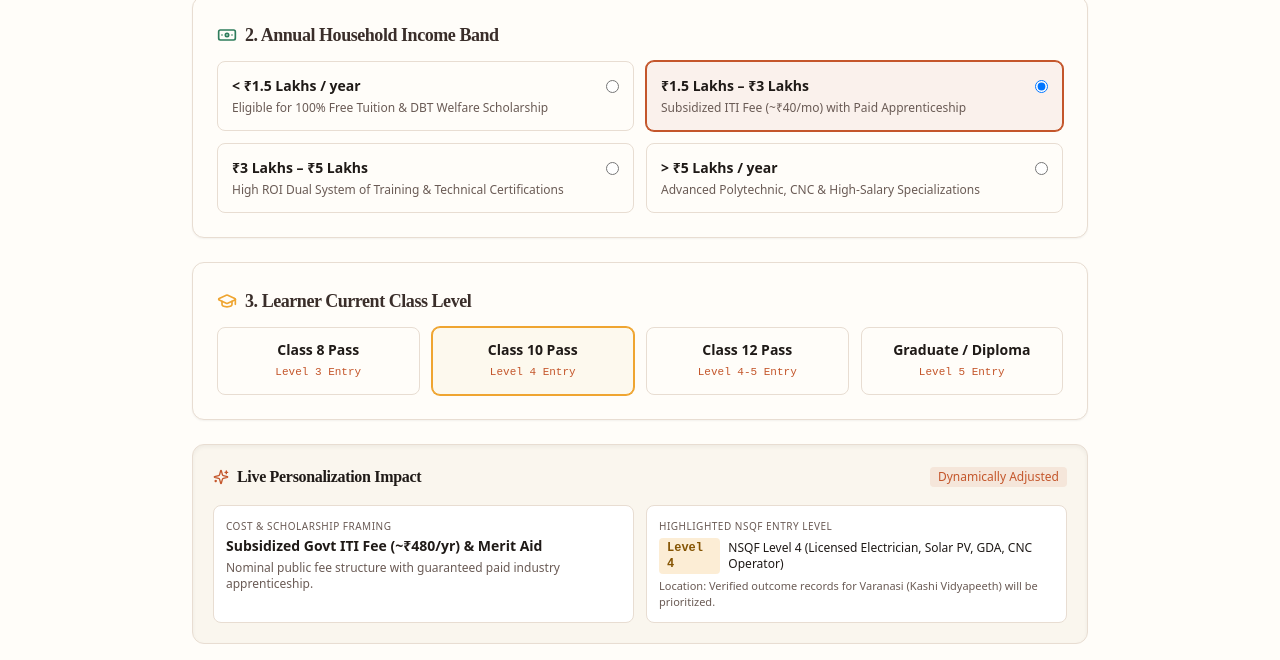
Scenario: HouseholdIntakeForm Component › updates dynamic preview when learner education level is changed to Class 8 Pass
(page scrolled)
What coordinates should you click on to do the following:
click the radio button labelled "Class 8 Pass Level 3 Entry"
I would click on:
 (318, 361)
Its box is [217,327,420,395].
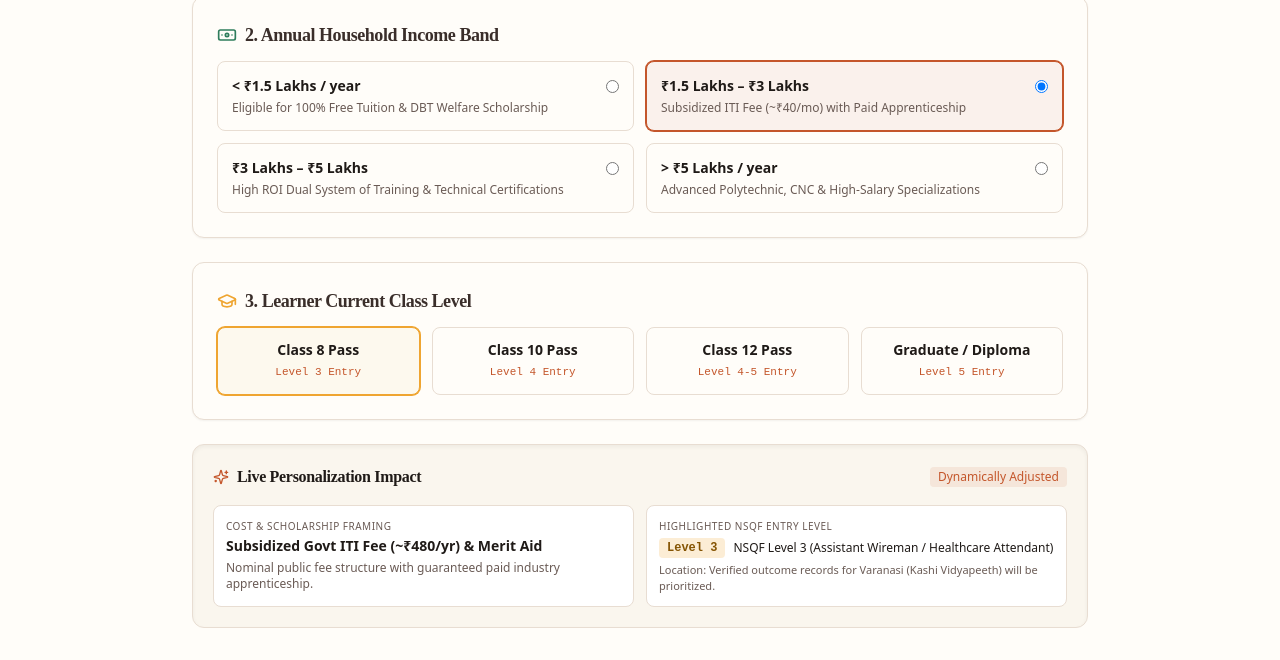
Check: the text "NSQF Level 3 (Assistant Wireman / Healthcare Attendant)" is shown, box [733,540,1053,556]
